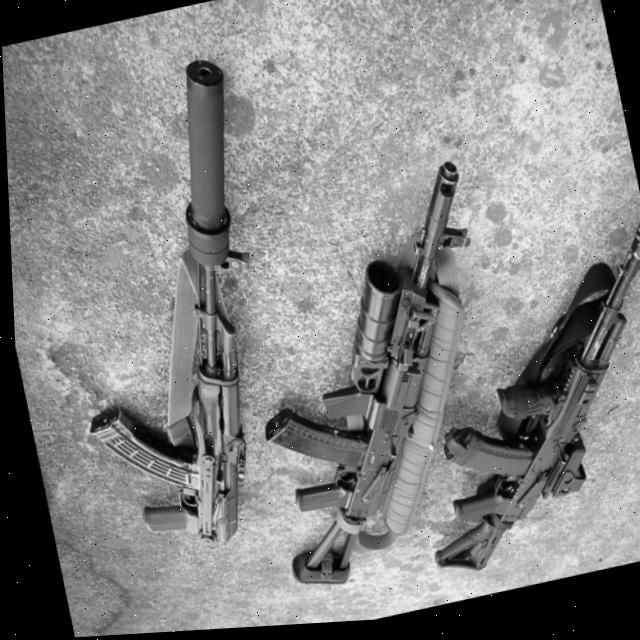firearm: (15, 47, 315, 577), (212, 162, 534, 600), (365, 200, 640, 591)
